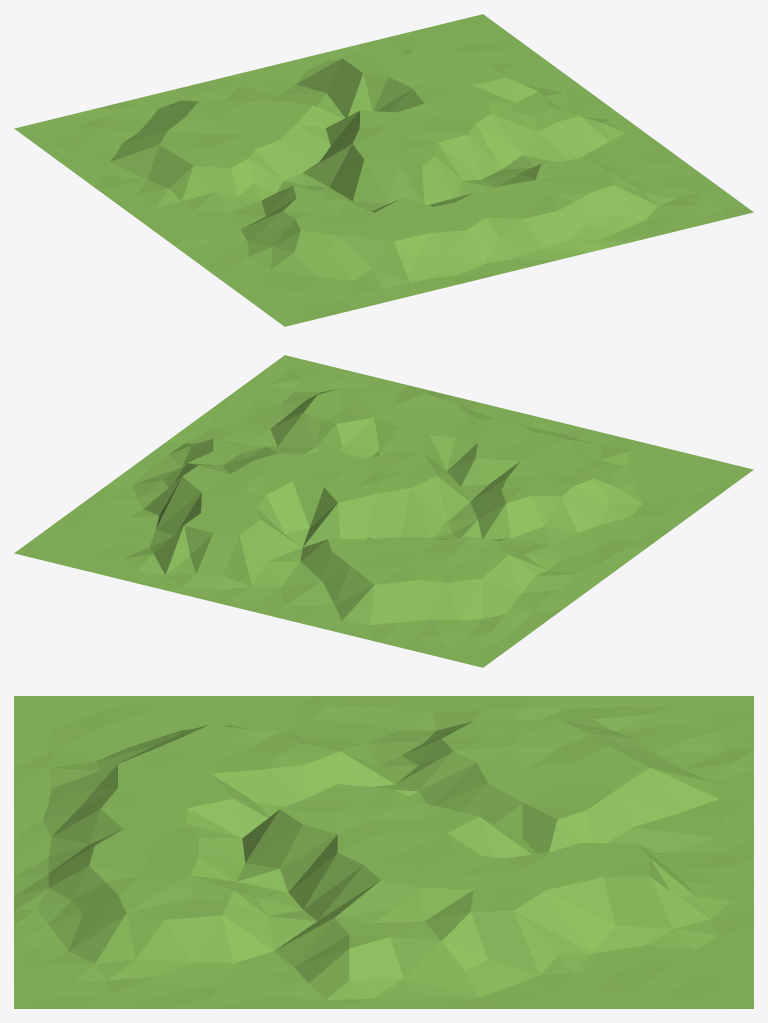
The model's file is MT_Terrain_M_c_07.fbx.
3 views of the same model, one above another, from view 1: azimuth 30°, elevation 25°; view 2: azimuth 150°, elevation 25°; view 3: azimuth 270°, elevation 25° (orthographic). The views are drawn at different scales.
Parts seen in each view (by area): view 1: MT_Terrain_M_c_07; view 2: MT_Terrain_M_c_07; view 3: MT_Terrain_M_c_07.
Part boxes in pixels (x1,y1,x2,y2): MT_Terrain_M_c_07: [14, 14, 753, 326]; MT_Terrain_M_c_07: [14, 355, 753, 667]; MT_Terrain_M_c_07: [14, 696, 753, 1008].
Size of the model in its own units: 5000 by 341 by 5000.
